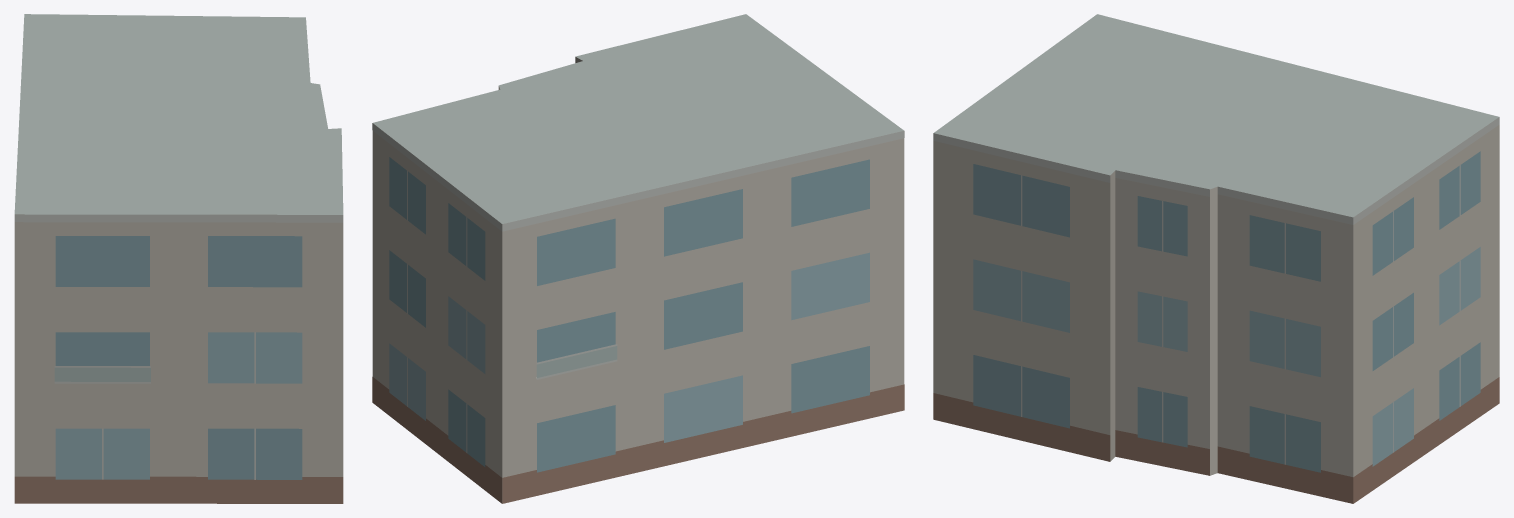
The model's file is survey-upis-32722116.glb.
3 renders of one model, left to right at view 1: azimuth 30°, elevation 25°; view 2: azimuth 150°, elevation 25°; view 3: azimuth 270°, elevation 25°, orthographic. The views are drawn at different scales.
Visible parts, largest first — view 1: survey-upis-32722116.tmp; view 2: survey-upis-32722116.tmp; view 3: survey-upis-32722116.tmp.
Boxes of the visible parts, x1,y1,x2,y2 form: survey-upis-32722116.tmp: (14, 14, 343, 503); survey-upis-32722116.tmp: (372, 14, 904, 503); survey-upis-32722116.tmp: (933, 14, 1499, 503).
Size of the model in its own units: 13.94 by 9.15 by 16.4.
